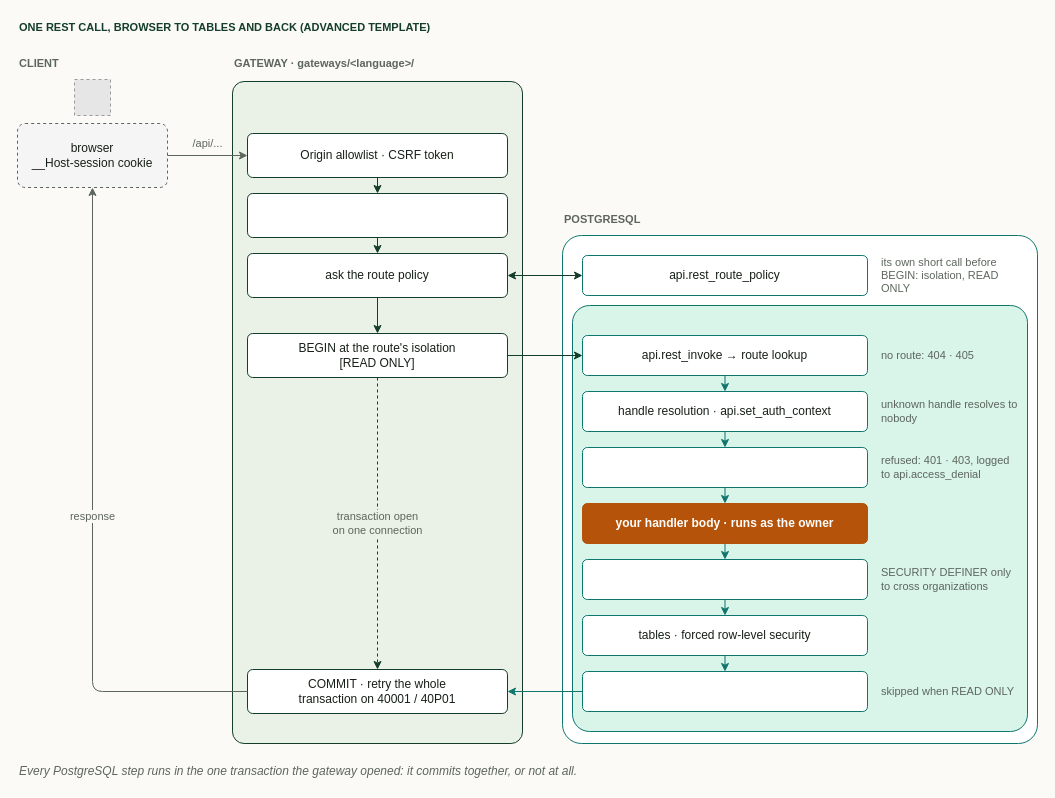
Some shapes in this 1055 by 798 pixel diagram are drawn without their labels. Grey dashed boxes stand in for pictures. The box of each missing label's shape, as (x1, y1, x2, y2) in pixels:
access decision: (582, 446, 868, 488)
kernel functions · the writers: (582, 558, 868, 600)
ONE TRANSACTION, OPENED BY THE GATEWAY: (572, 304, 1028, 732)
row in api.rest_exchange: (582, 670, 868, 712)
strip /api · drop client-sent session headers: (246, 192, 508, 238)
